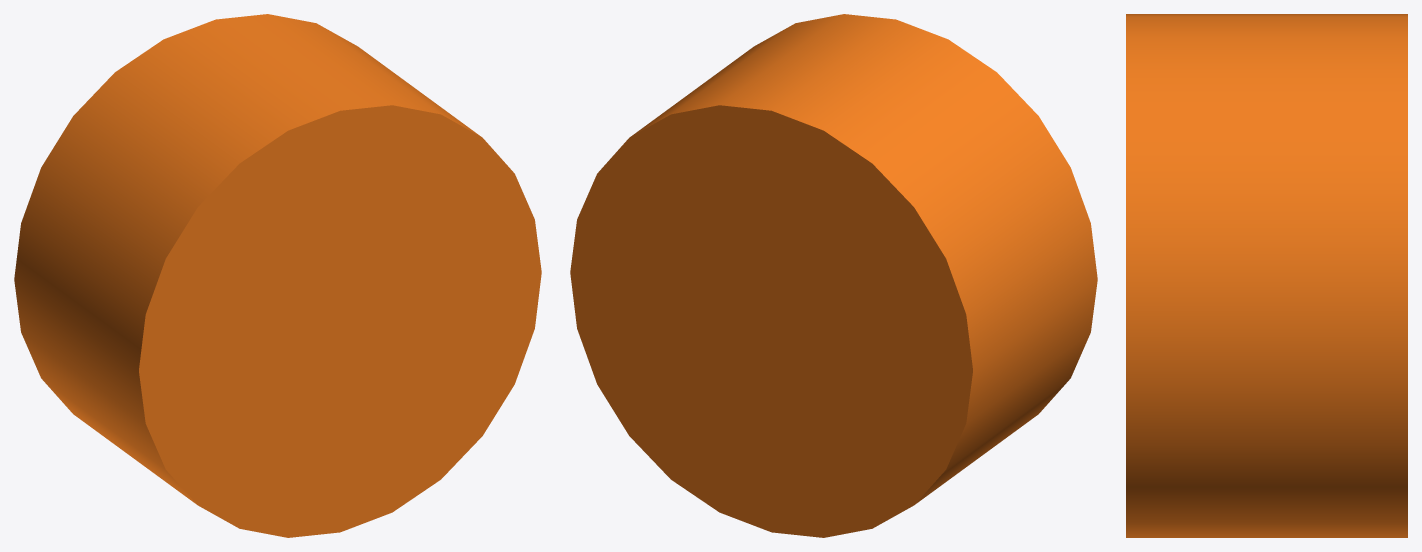
The picture shows the model from 3 angles, left to right: view 1: azimuth 30°, elevation 25°; view 2: azimuth 150°, elevation 25°; view 3: azimuth 270°, elevation 25°; orthographic projection. The views are drawn at different scales.
Parts seen in each view (by area): view 1: gripper_frame; view 2: gripper_frame; view 3: gripper_frame.
Boxes of the visible parts, <box> form: gripper_frame: <box>14,14,541,537</box>; gripper_frame: <box>570,14,1097,537</box>; gripper_frame: <box>1126,14,1407,537</box>.
Bounding box in the file's own units: 0.056 × 0.056 × 0.03.
